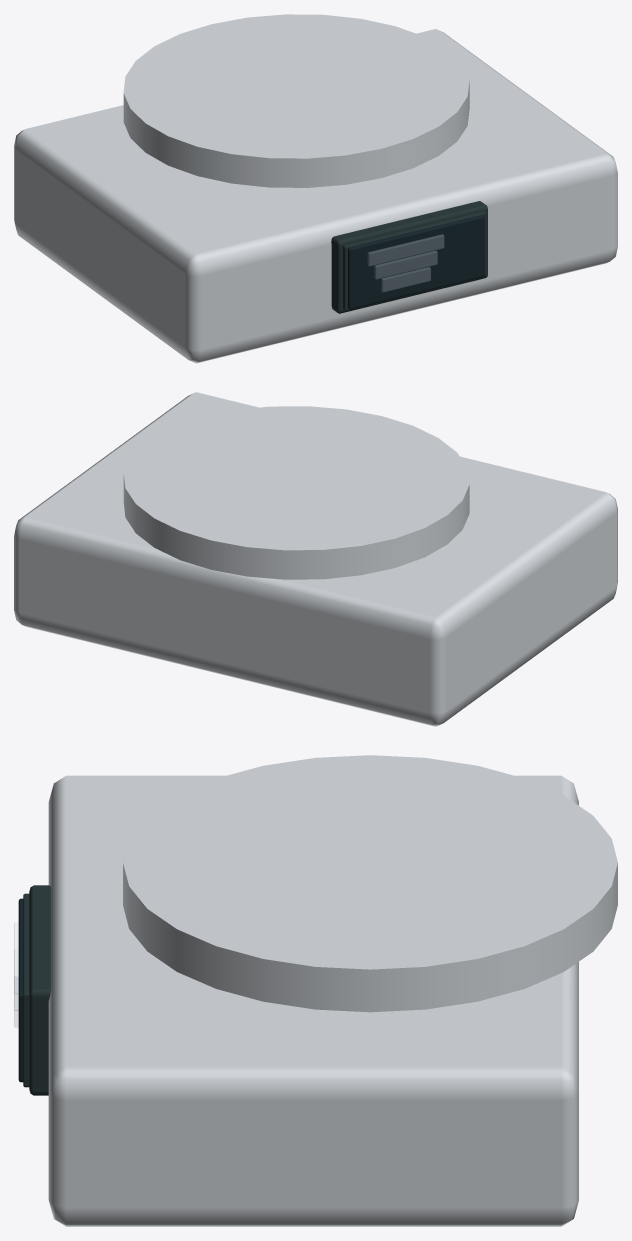
File: wp-balance-de-cuisine.glb
3 views of the same model, one above another, from view 1: azimuth 30°, elevation 25°; view 2: azimuth 150°, elevation 25°; view 3: azimuth 270°, elevation 25° (orthographic). The views are drawn at different scales.
Visible parts, largest first — view 1: wp-balance-de-cuisine; view 2: wp-balance-de-cuisine; view 3: wp-balance-de-cuisine.
Boxes of the visible parts, x1,y1,x2,y2 form: wp-balance-de-cuisine: [14, 14, 617, 363]; wp-balance-de-cuisine: [14, 392, 617, 726]; wp-balance-de-cuisine: [14, 755, 617, 1226].
Size of the model in its own units: 0.24 by 0.08 by 0.2.
